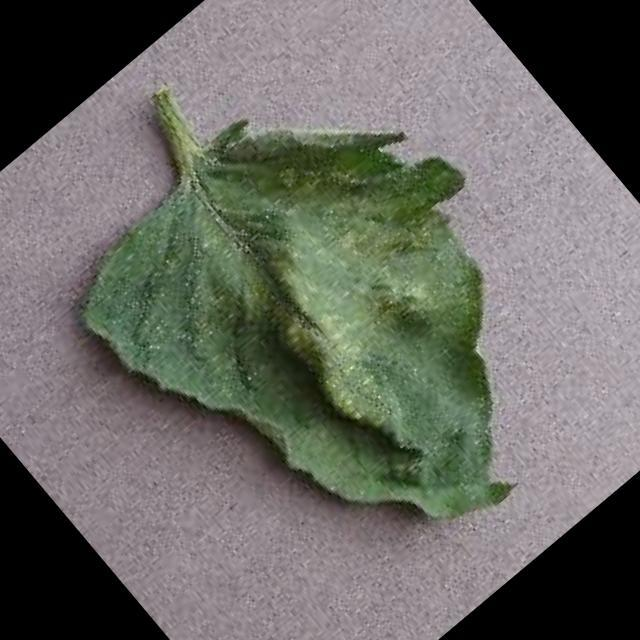Tomato spider mites leaf: (45, 28, 640, 637)
